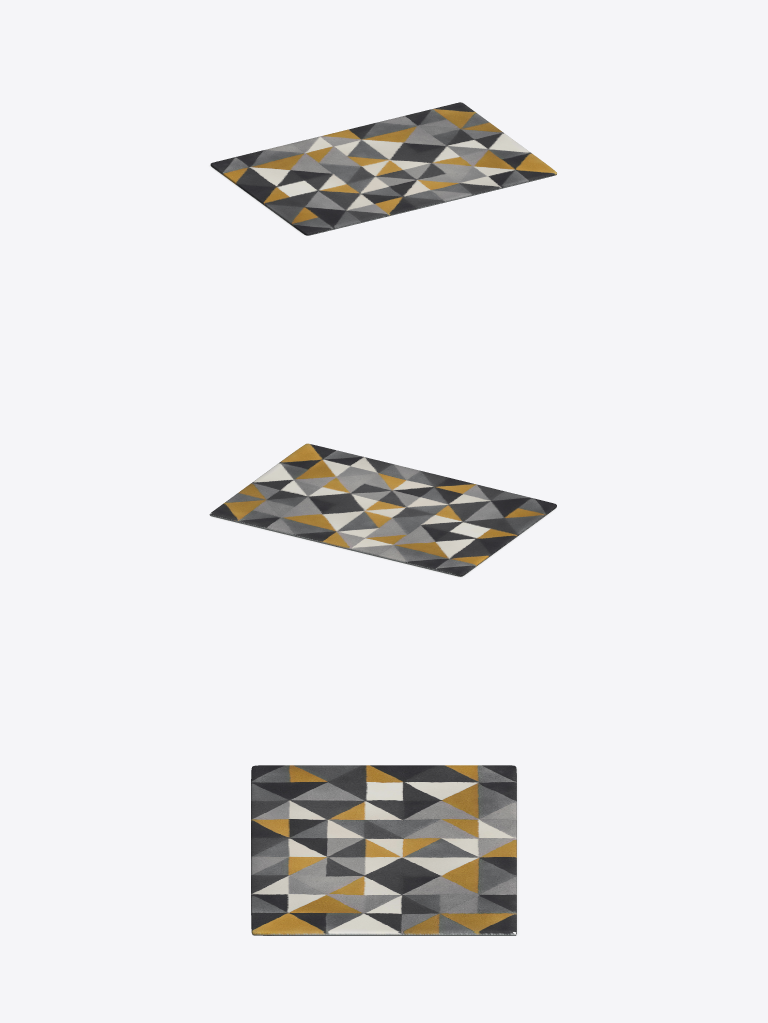
The picture shows the model from 3 angles, top to bottom: view 1: azimuth 30°, elevation 25°; view 2: azimuth 150°, elevation 25°; view 3: azimuth 270°, elevation 25°; orthographic projection. The views are drawn at different scales.
Visible parts, largest first — view 1: Henrik_Hand_Tufted_Wool_Rug_Grey_and_RedMulti_120x180cm_HENR; view 2: Henrik_Hand_Tufted_Wool_Rug_Grey_and_RedMulti_120x180cm_HENR, Plane001; view 3: Henrik_Hand_Tufted_Wool_Rug_Grey_and_RedMulti_120x180cm_HENR.
Part boxes in pixels (x1=…): Henrik_Hand_Tufted_Wool_Rug_Grey_and_RedMulti_120x180cm_HENR: x1=210, y1=102, x2=556, y2=235; Henrik_Hand_Tufted_Wool_Rug_Grey_and_RedMulti_120x180cm_HENR: x1=209, y1=443, x2=556, y2=576; Plane001: x1=210, y1=507, x2=556, y2=577; Henrik_Hand_Tufted_Wool_Rug_Grey_and_RedMulti_120x180cm_HENR: x1=251, y1=765, x2=516, y2=935.
Size of the model in its own units: 445 by 2.9 by 445.
2 materials, 2 textured.
